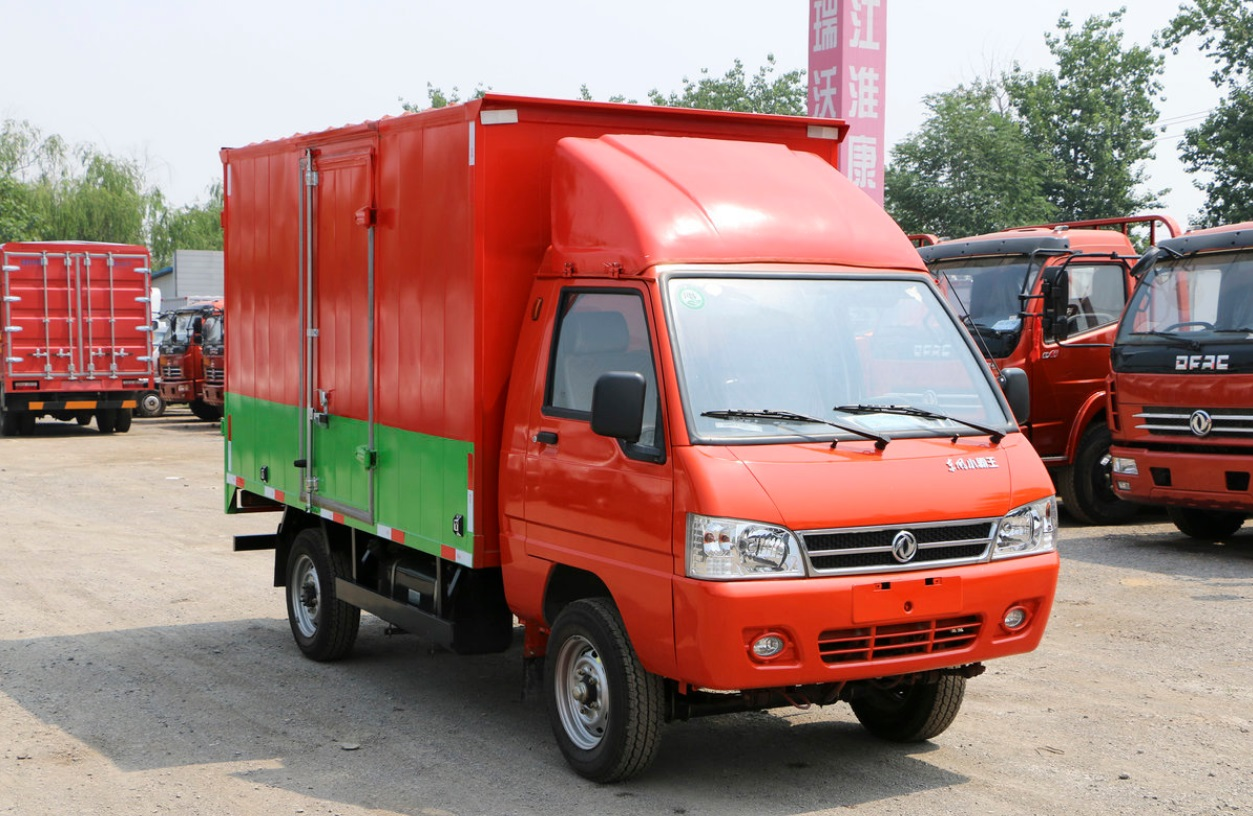truck: (213, 86, 1067, 791)
